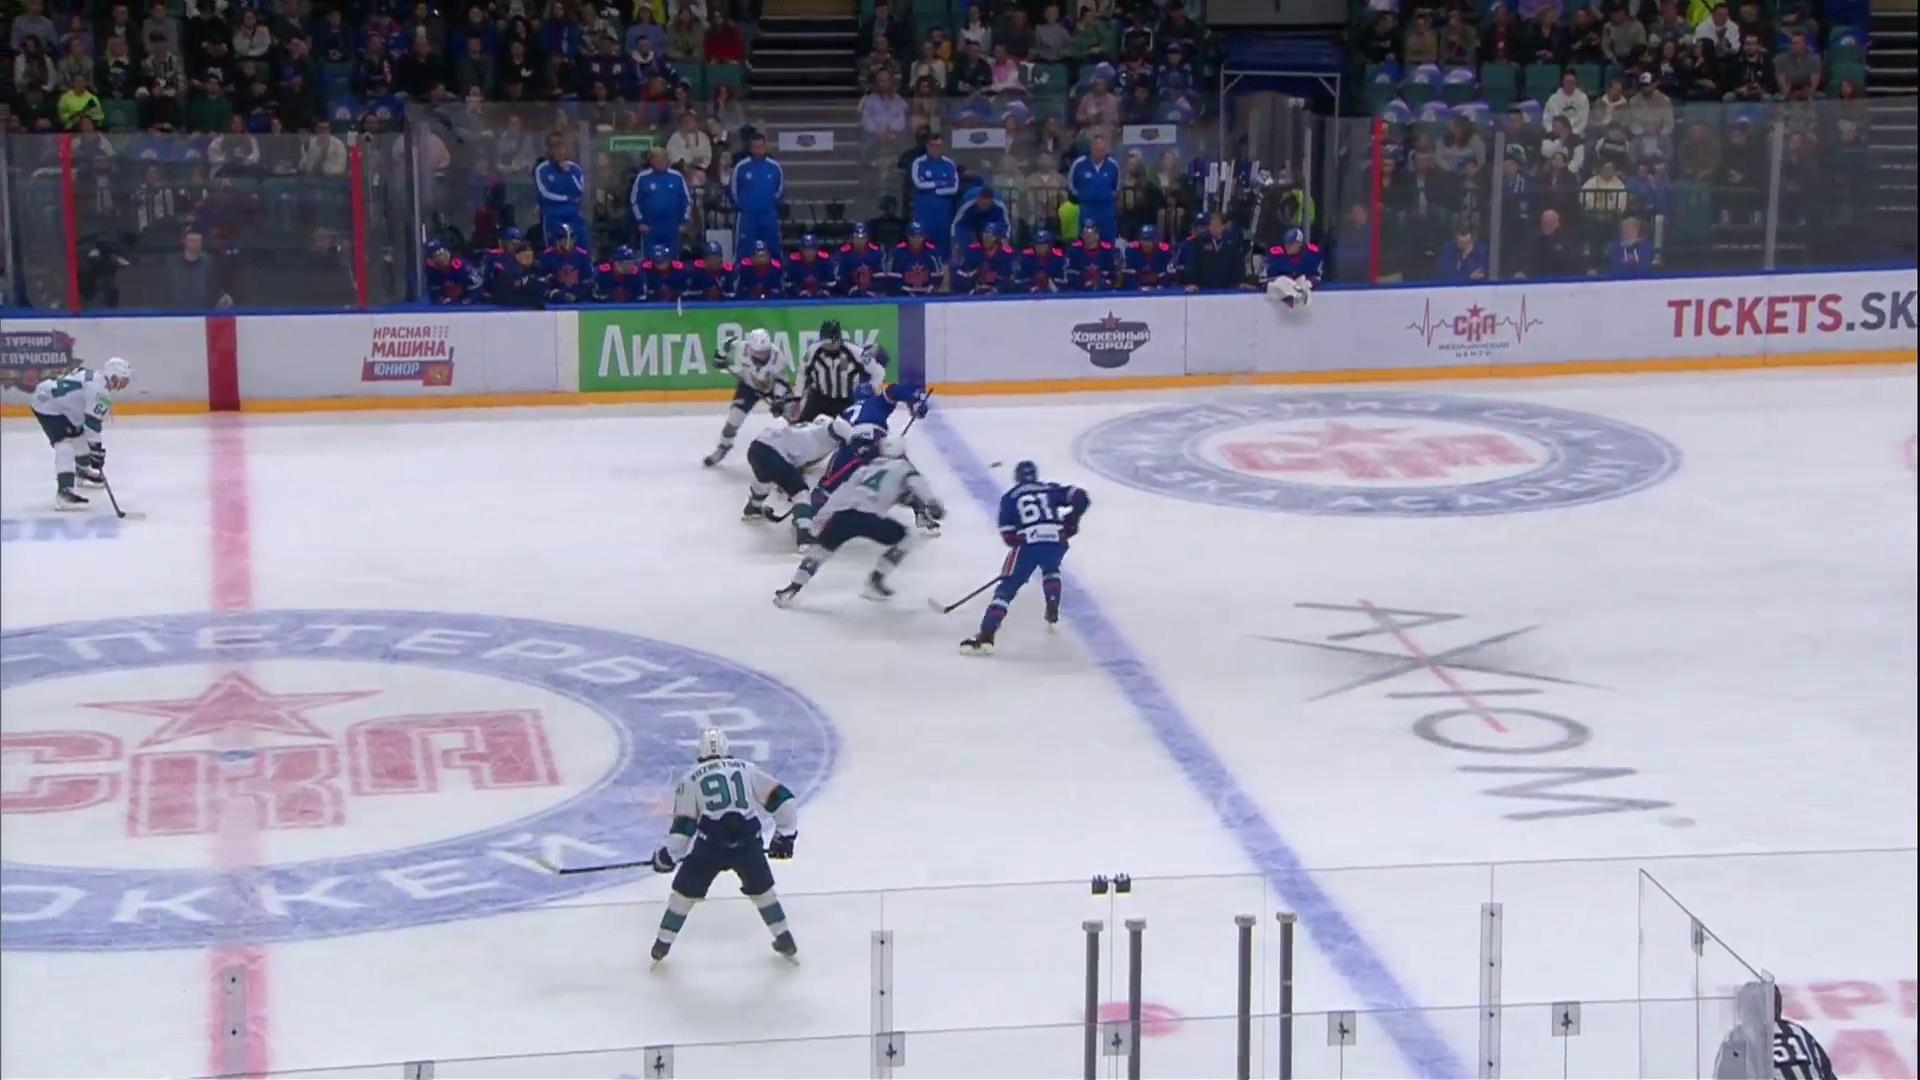ball: (989, 462, 1002, 468)
